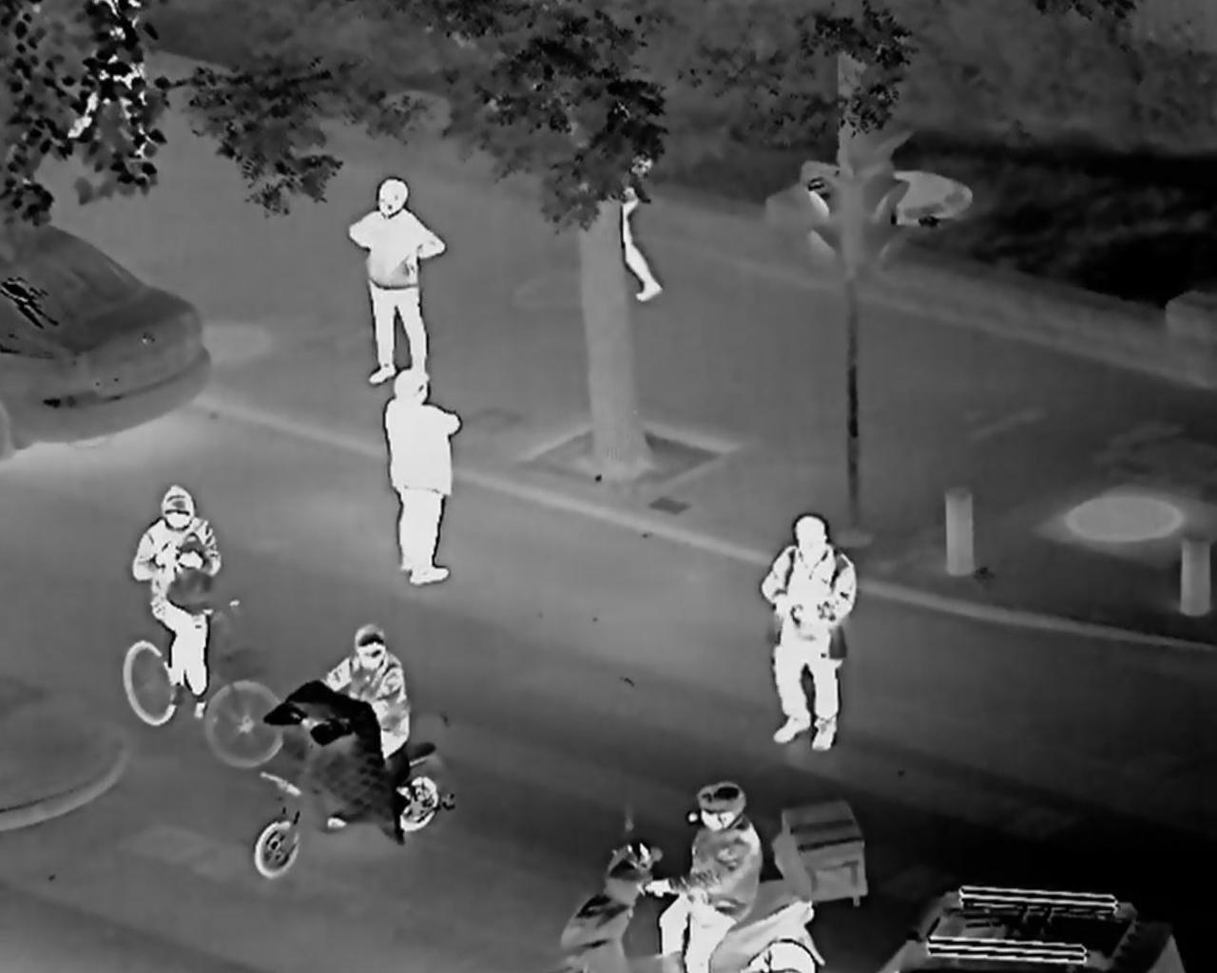person: (763, 491, 860, 754), (656, 767, 779, 973), (126, 467, 221, 722), (313, 619, 418, 800), (348, 178, 445, 361), (381, 394, 458, 598)
